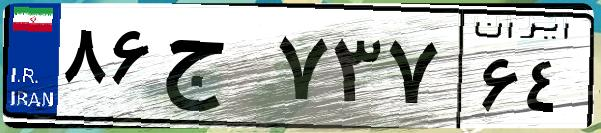3: (330, 28, 385, 110)
4: (525, 38, 570, 115)
6: (475, 38, 525, 113), (110, 28, 158, 98)
7: (270, 28, 330, 110), (385, 28, 445, 110)
8: (57, 26, 110, 100)
ج: (158, 20, 270, 120)
